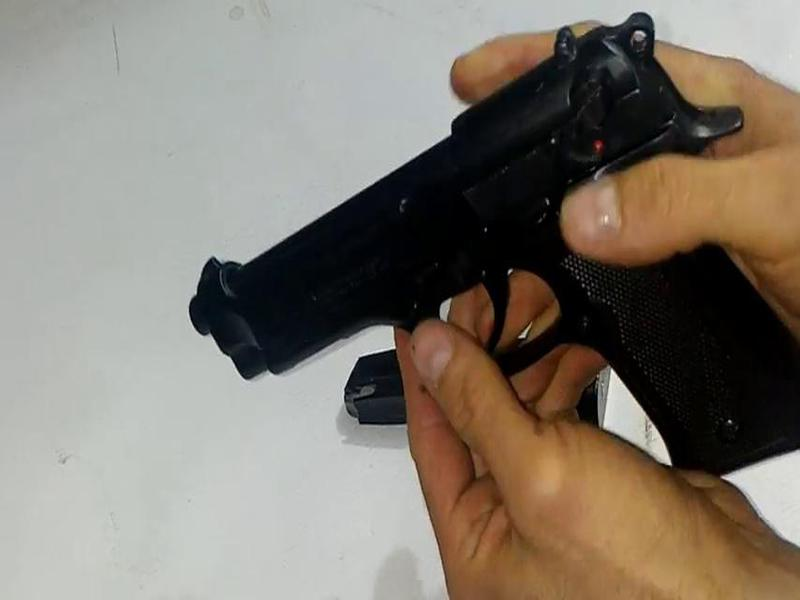Pistola: (158, 29, 780, 471)
